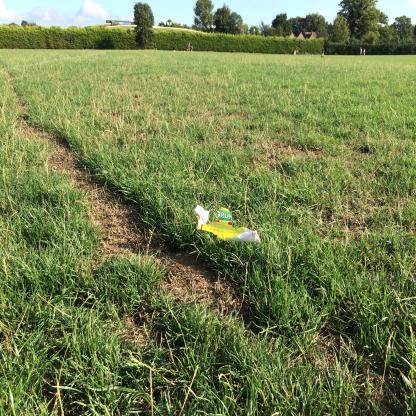trash: (192, 201, 262, 248)
